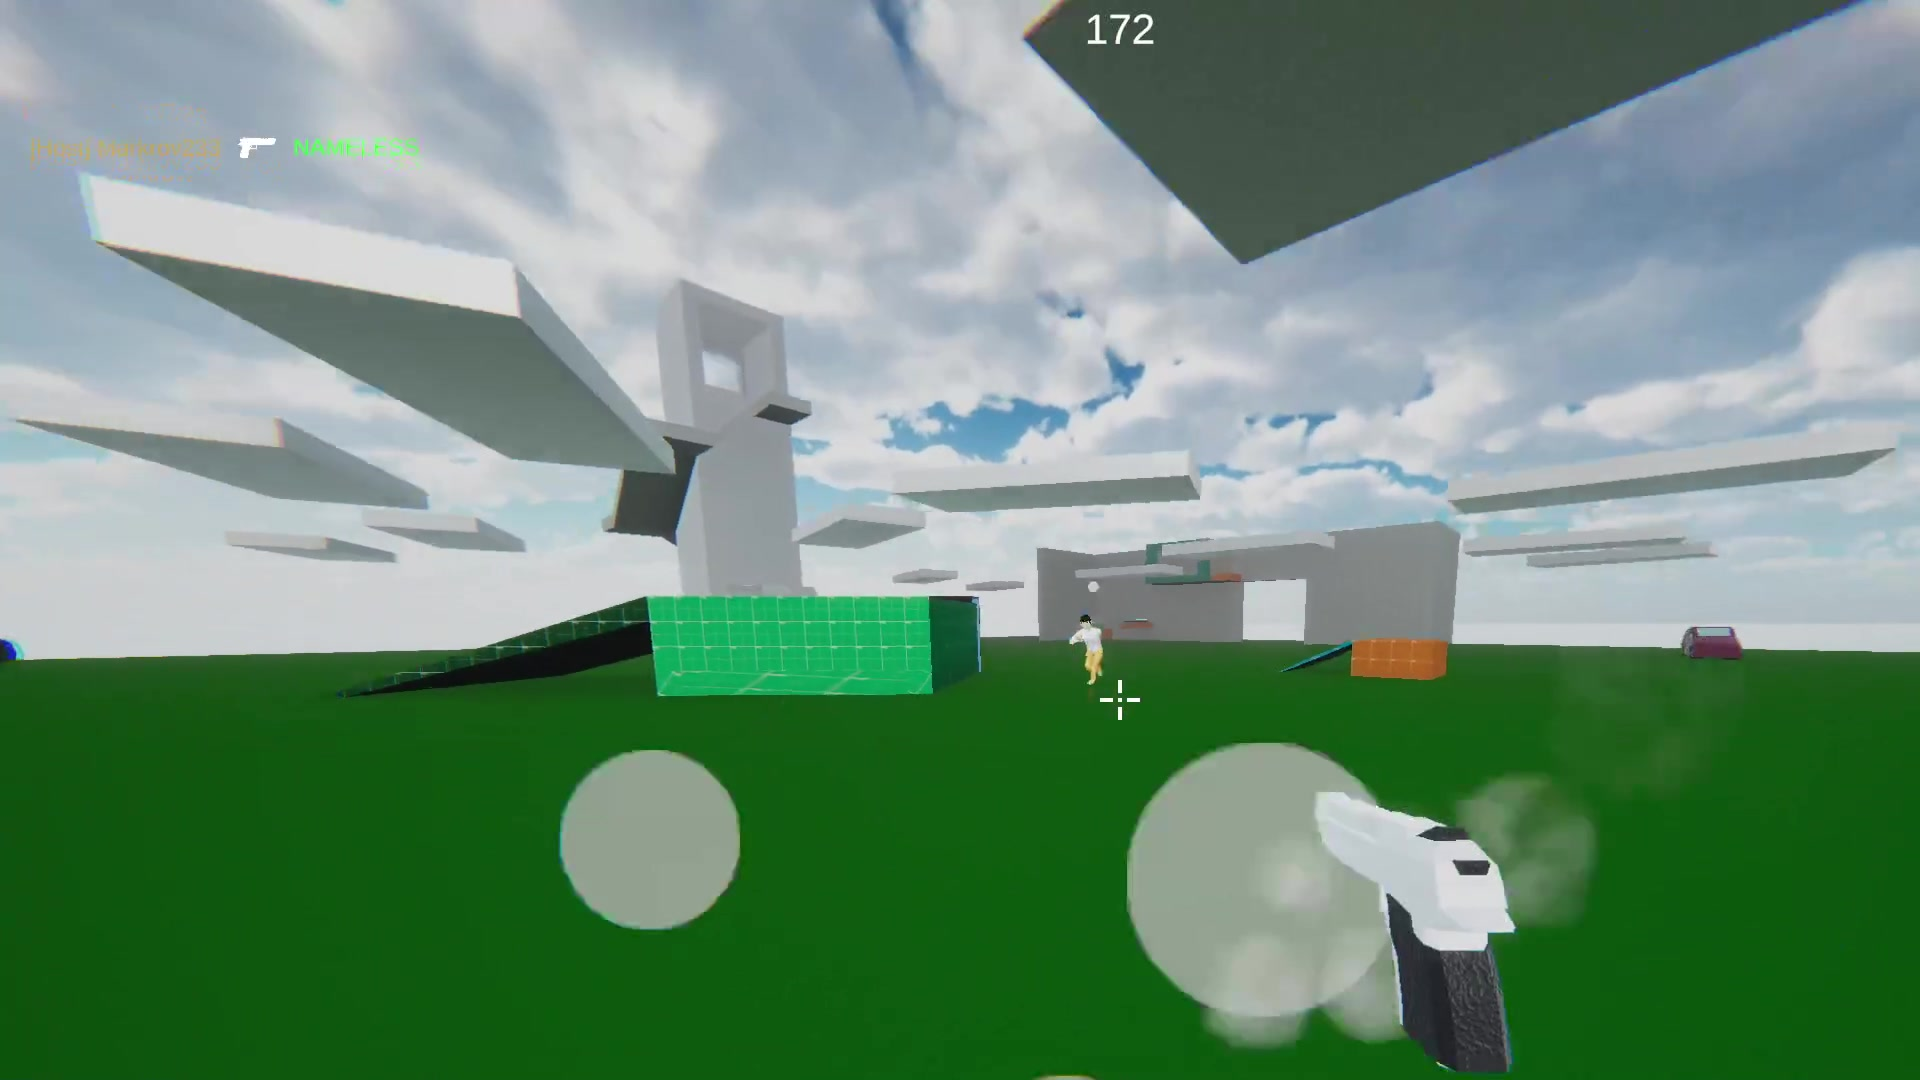human: (1080, 625, 1108, 689)
